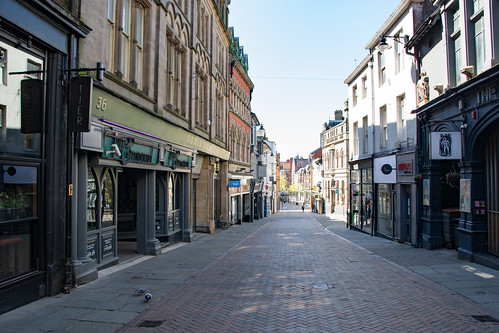building: (82, 1, 224, 282), (1, 1, 78, 287), (417, 1, 499, 252), (343, 9, 415, 236), (225, 52, 256, 223), (311, 118, 348, 210), (286, 154, 310, 208)
sky: (244, 1, 343, 128)
